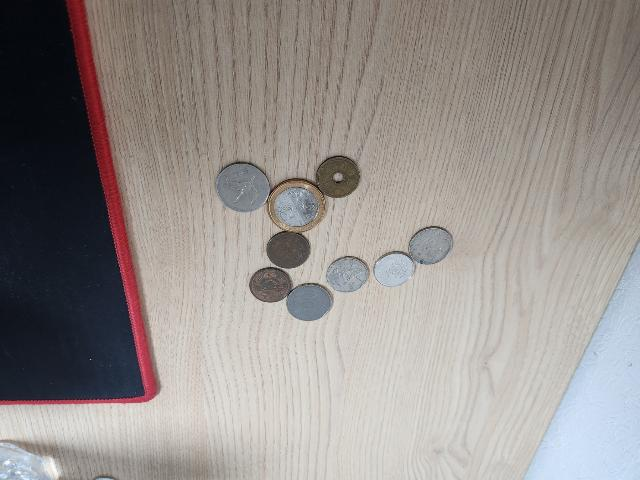coin: (268, 177, 328, 232), (216, 162, 270, 212), (316, 156, 360, 198), (266, 230, 310, 270), (286, 284, 334, 320), (410, 226, 452, 266), (326, 256, 368, 292), (251, 268, 291, 302), (374, 252, 414, 286)
